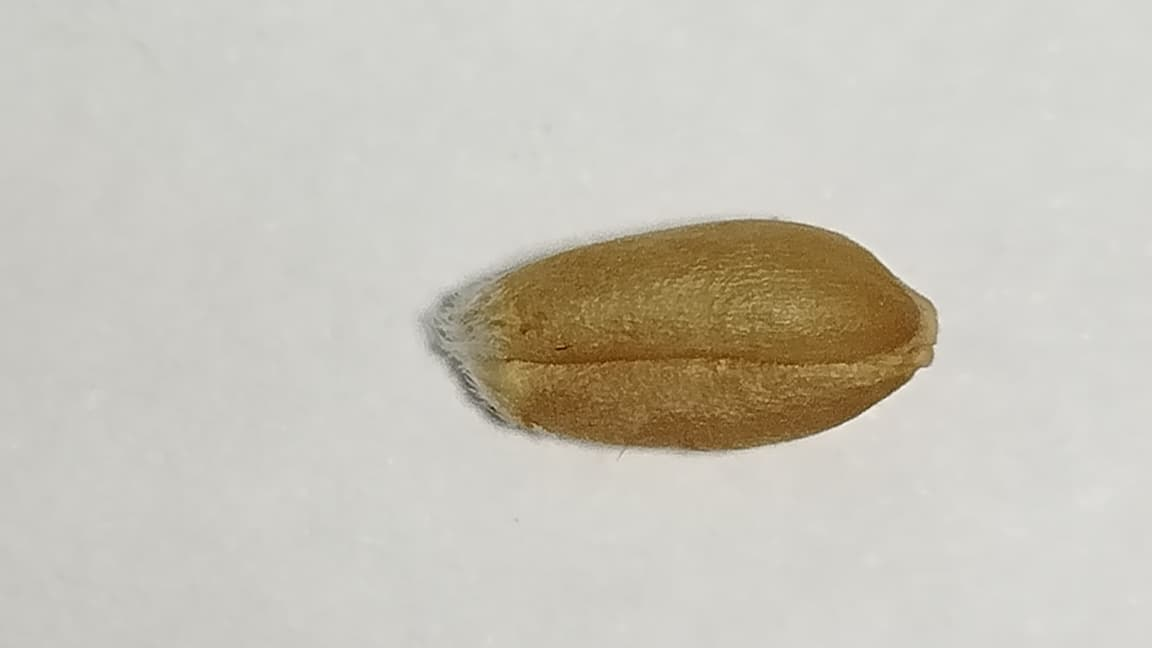healthy: (472, 218, 935, 444)
